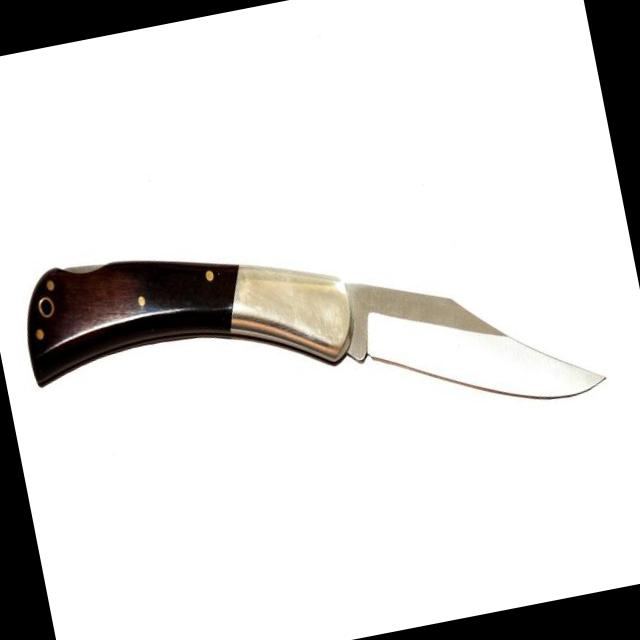Knife: (29, 261, 604, 399)
